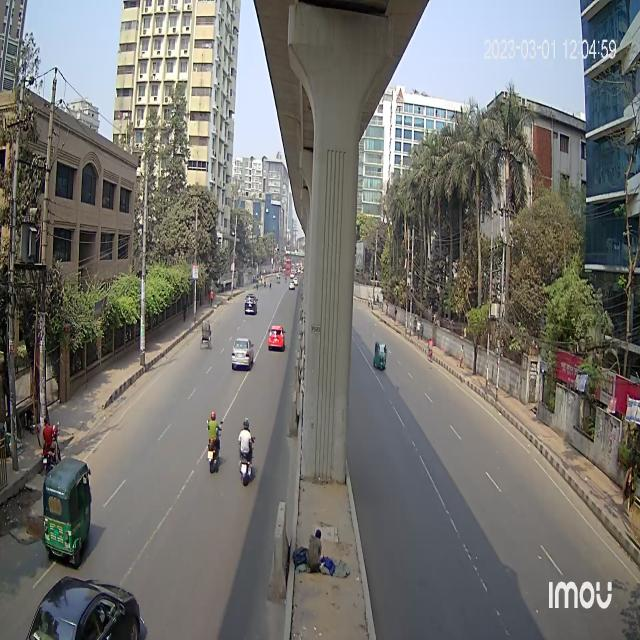cng: (38, 449, 96, 564)
